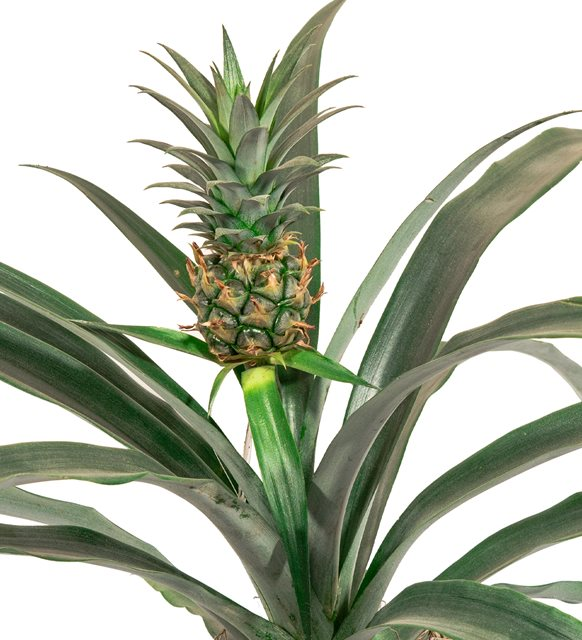pineapple: (186, 238, 319, 375)
